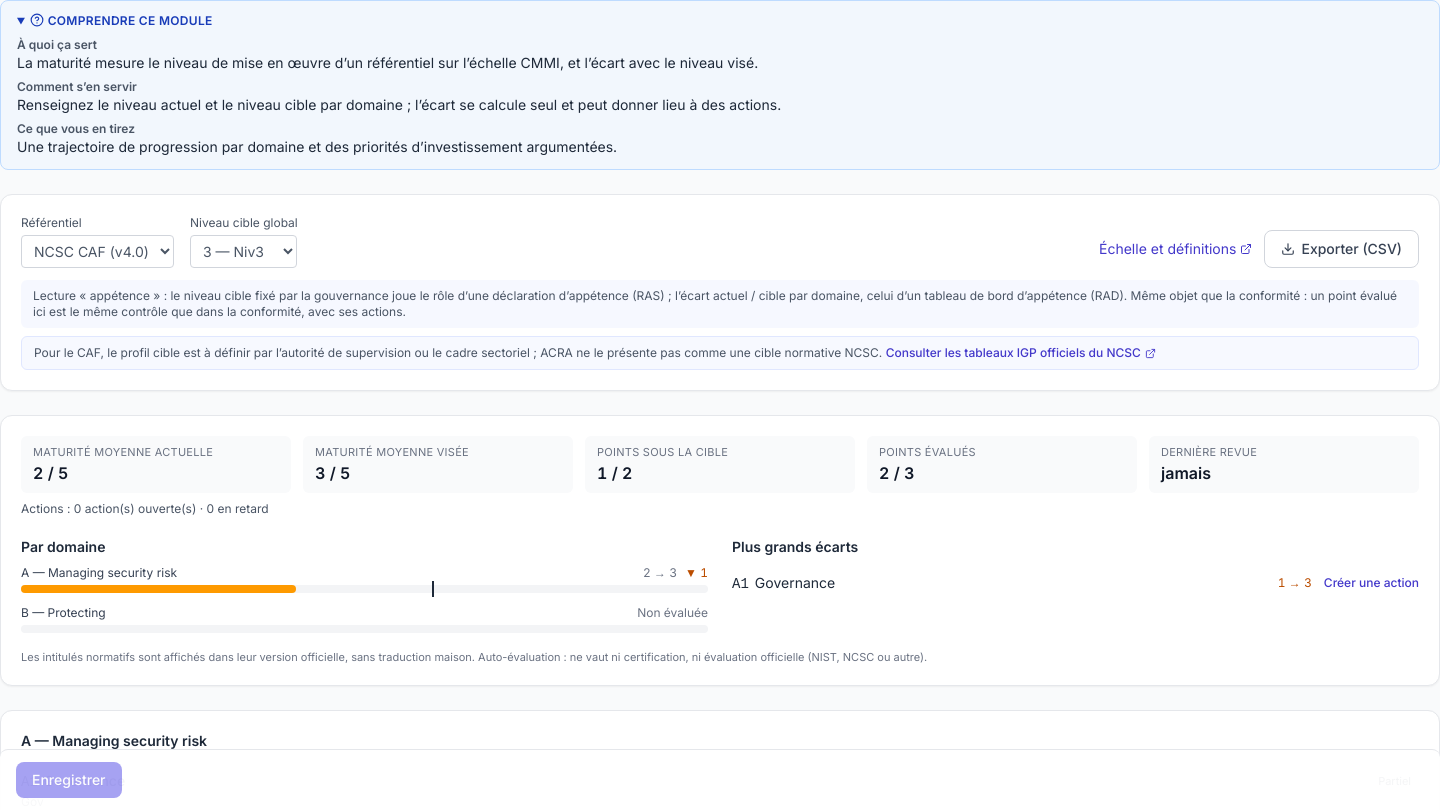
Test: MaturityDashboard › action proposée seulement pour un écart ; action existante signalée
The image size is (1440, 810).
Click the button "Créer une action" at (1371, 583), box [1324, 575, 1419, 591]
(page scrolled)
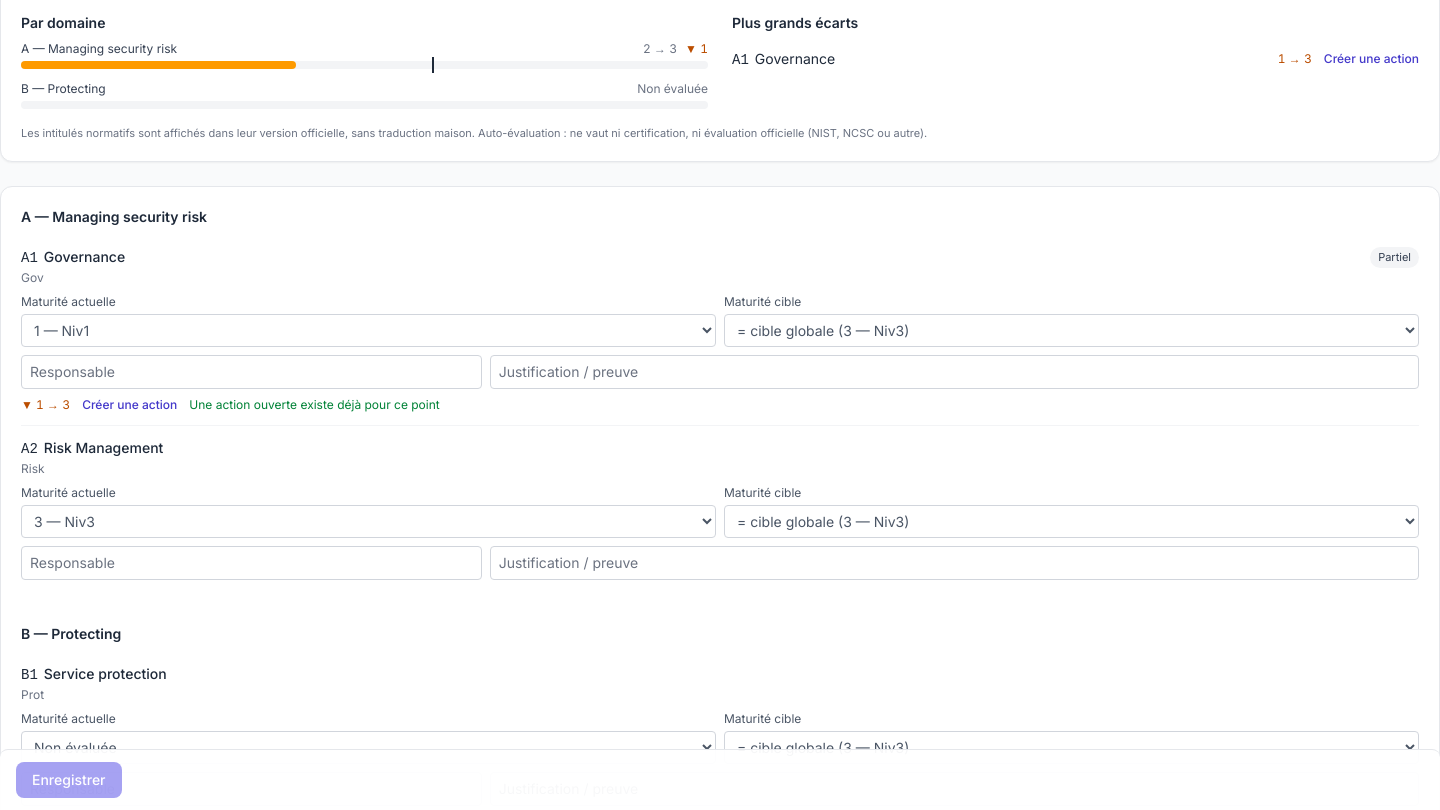
Check: the text "Une action ouverte existe déjà pour ce point" is shown, box [189, 397, 440, 413]
